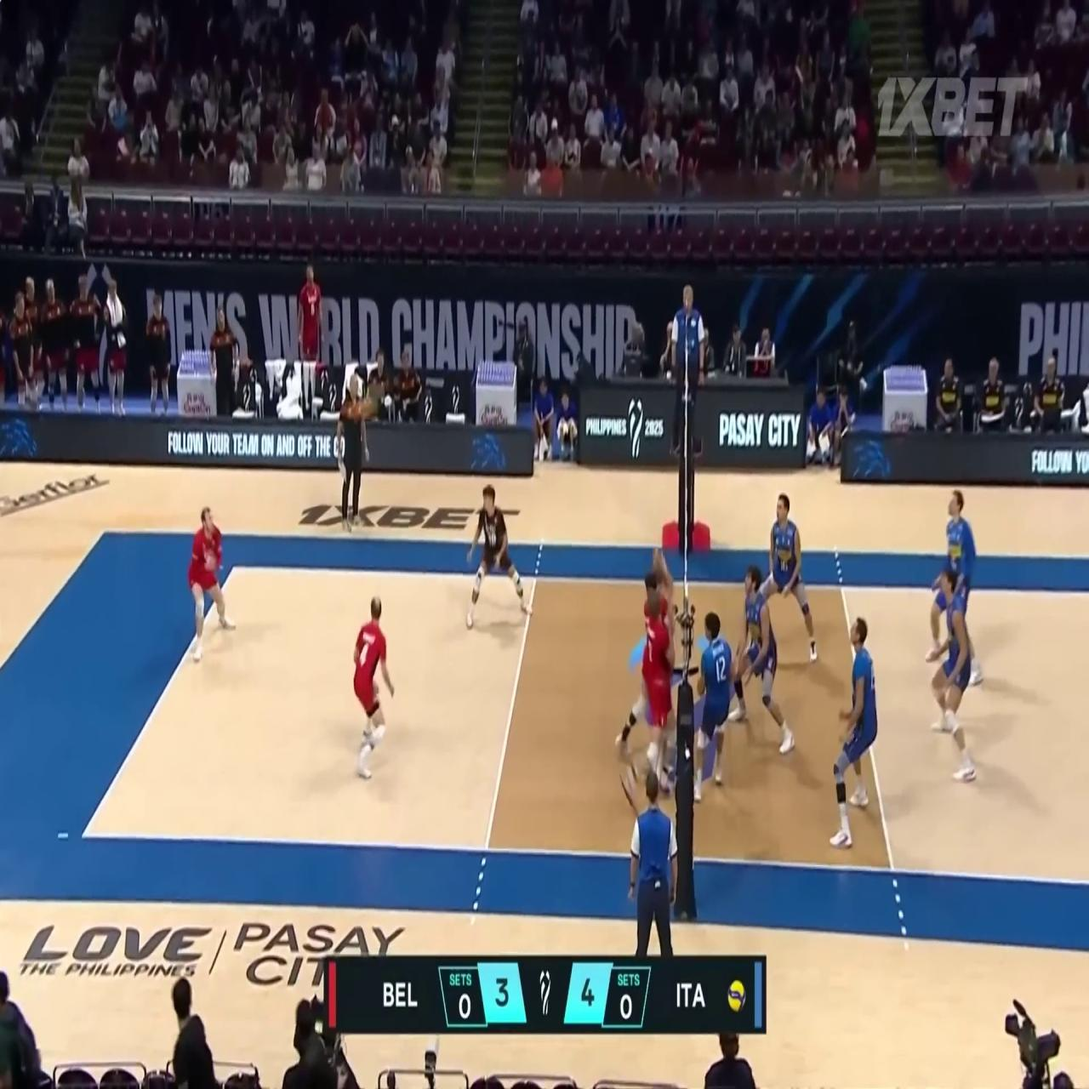ball: (359, 392, 377, 423)
